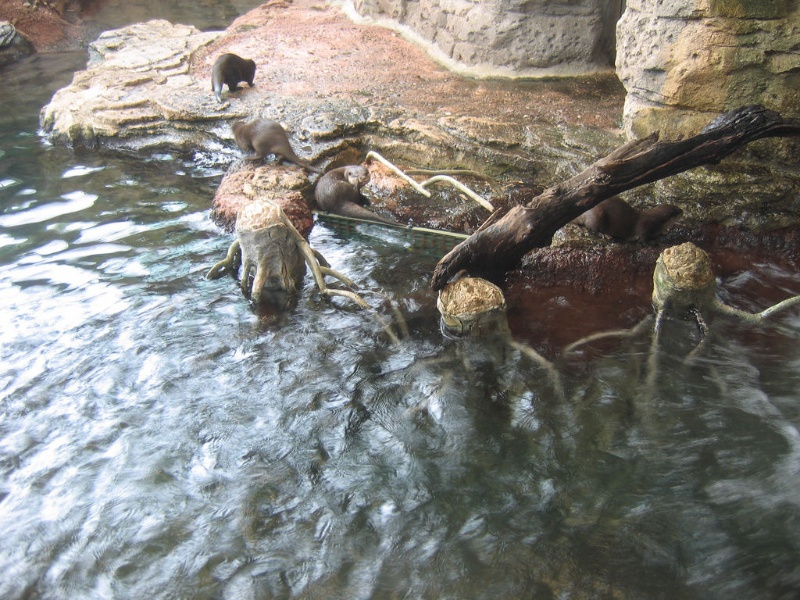minkish: (311, 162, 413, 229), (225, 112, 324, 181), (562, 196, 690, 243), (204, 46, 263, 108)
